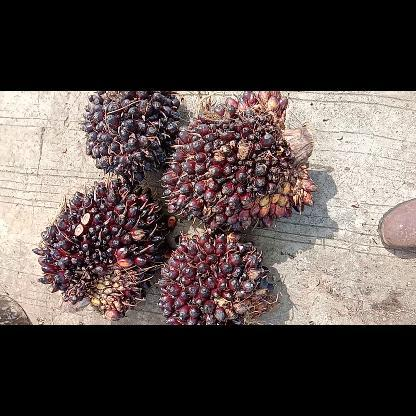TBS mentah: (159, 91, 319, 229), (30, 177, 170, 321), (157, 224, 277, 324), (80, 91, 184, 183)
